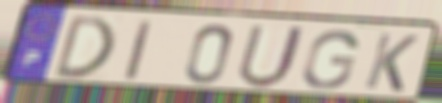0: (184, 22, 236, 86)
D: (50, 13, 118, 81)
G: (299, 28, 361, 91)
I: (121, 18, 156, 84)
K: (361, 30, 422, 94)
U: (234, 23, 310, 91)
